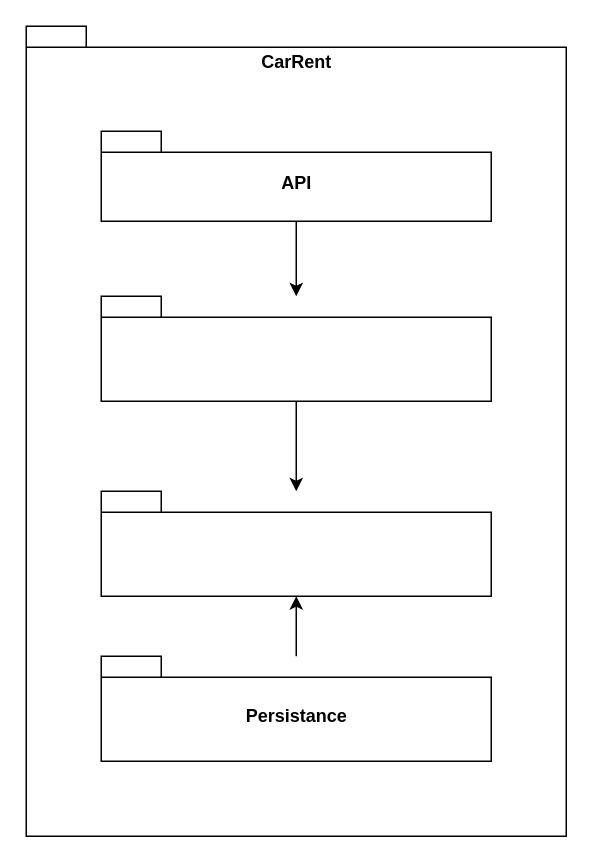
Image size: 593x863. Some labels were removed from this diagram. Here are the shapes that lost their labels. From the top down, the box of each, then its label:
(100, 295, 491, 401): Application
(100, 490, 491, 596): Domain
